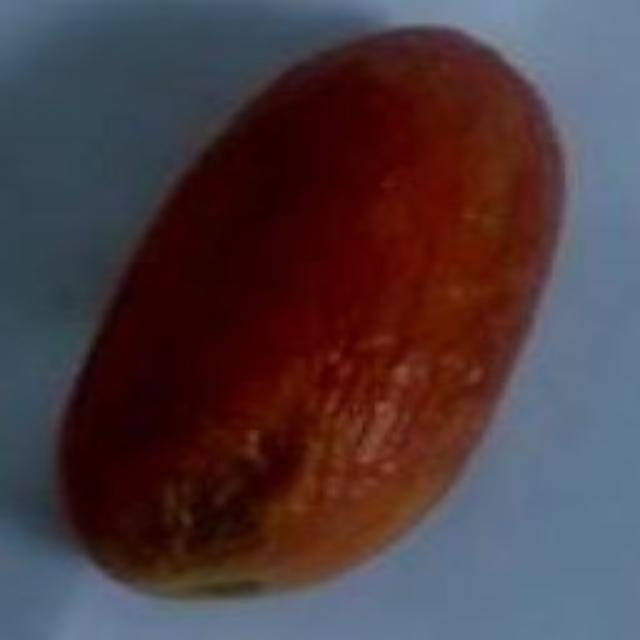defect: (59, 19, 566, 620)
